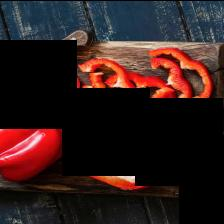red: (66, 106, 173, 189), (0, 109, 71, 181)
